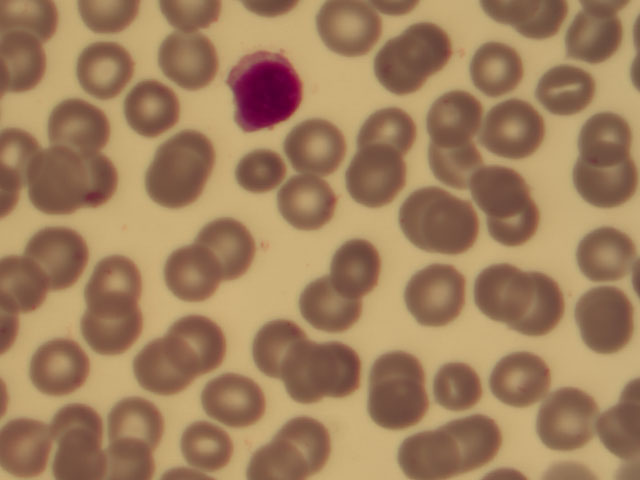RBC: (77, 42, 134, 96), (58, 98, 115, 152), (25, 155, 82, 209), (70, 150, 127, 204), (130, 82, 187, 136), (154, 33, 211, 87), (157, 122, 214, 176), (143, 162, 200, 216), (86, 258, 143, 312), (76, 306, 133, 360), (33, 229, 90, 283), (5, 260, 62, 314), (28, 340, 85, 394), (45, 397, 102, 451), (50, 426, 107, 480), (1, 426, 58, 480), (111, 396, 168, 450), (99, 426, 156, 480), (180, 417, 237, 471), (202, 373, 259, 427), (172, 317, 229, 371), (138, 340, 195, 394), (165, 246, 222, 300), (194, 220, 251, 274), (230, 144, 287, 198), (283, 173, 340, 227), (291, 116, 348, 170), (352, 149, 409, 203), (359, 100, 416, 154), (374, 37, 431, 91), (404, 16, 461, 70), (569, 8, 626, 62), (540, 68, 597, 122), (465, 41, 522, 95), (492, 107, 549, 161), (425, 86, 482, 140), (423, 137, 480, 191), (469, 154, 526, 208), (486, 192, 543, 246), (427, 198, 484, 252), (389, 189, 446, 243), (328, 236, 385, 290), (300, 275, 357, 329), (245, 318, 302, 372), (271, 345, 328, 399), (325, 343, 382, 397), (366, 339, 423, 393), (371, 373, 428, 427), (439, 357, 496, 411), (409, 268, 466, 322), (472, 268, 529, 322), (507, 281, 564, 335), (570, 293, 627, 347), (576, 236, 633, 290), (583, 161, 640, 215), (580, 113, 637, 167), (540, 386, 597, 440), (497, 351, 554, 405), (461, 413, 518, 467), (406, 426, 463, 480), (283, 415, 340, 469), (247, 426, 304, 480), (1, 42, 57, 96), (321, 1, 378, 54), (1, 1, 57, 54)
WBC: (223, 50, 305, 133)
